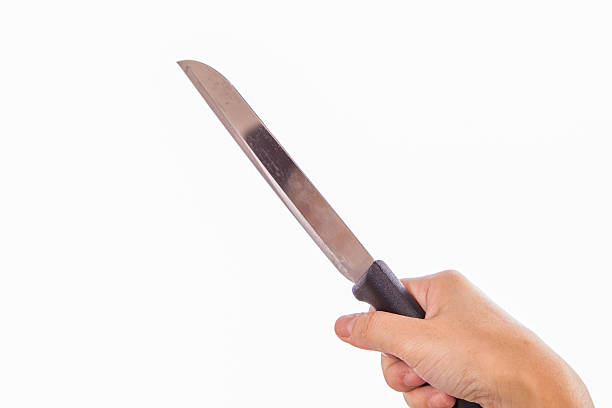knife: (174, 58, 426, 317)
